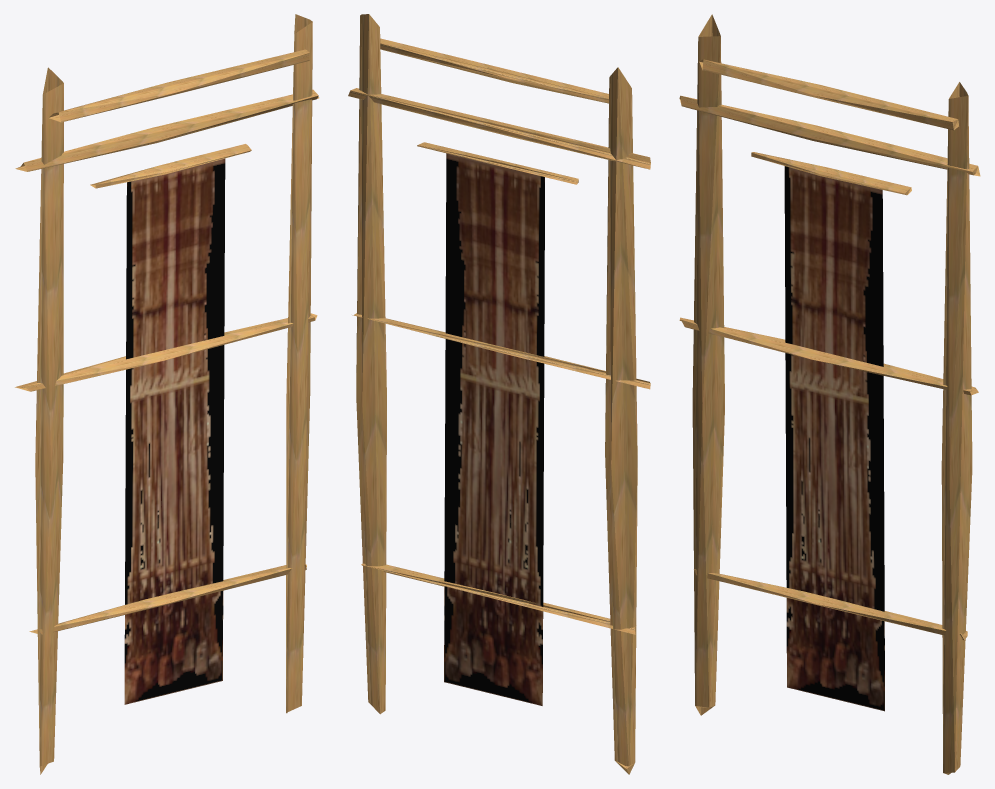
File: loom.glb
The picture shows the model from 3 angles, left to right: view 1: azimuth 30°, elevation 25°; view 2: azimuth 150°, elevation 25°; view 3: azimuth 330°, elevation 25°; orthographic projection.
Parts seen in each view (by area): view 1: Plane, Cylinder; view 2: Plane, Cylinder; view 3: Plane, Cylinder.
Boxes of the visible parts, x1,y1,x2,y2 form: Plane: (124,158,225,704); Cylinder: (15,14,319,774); Plane: (444,153,544,705); Cylinder: (348,14,650,774); Plane: (784,166,884,711); Cylinder: (679,14,980,774).
Bounding box in the file's own units: 9.47 × 21.03 × 0.8535.
2 materials, 2 textured.
